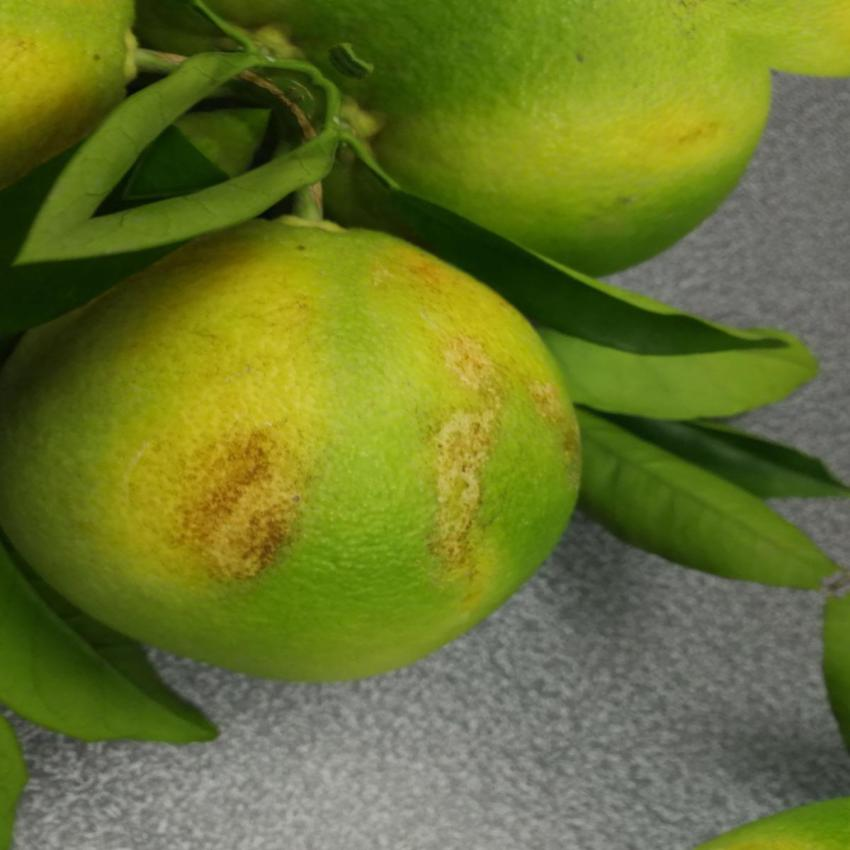Mal estado: (2, 208, 610, 710), (289, 0, 773, 277)
